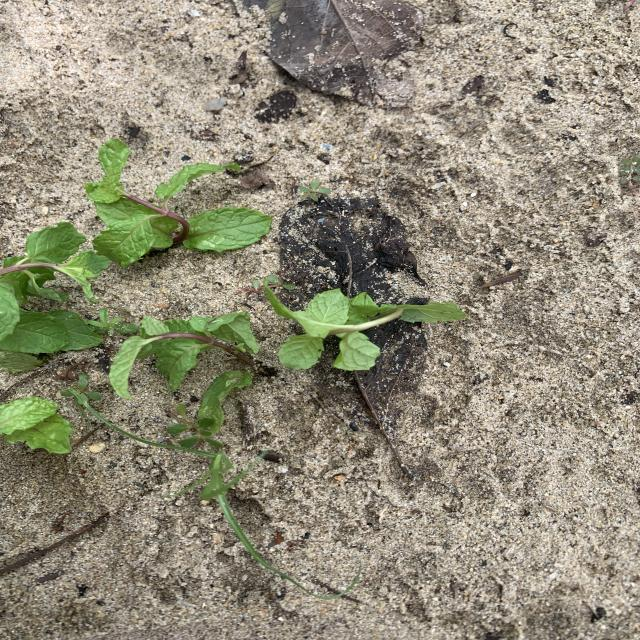crop: (85, 139, 271, 266), (109, 312, 276, 432), (264, 288, 463, 368), (0, 224, 106, 367), (1, 397, 71, 453)
weed: (89, 408, 265, 562), (165, 404, 220, 447), (86, 309, 138, 334), (60, 374, 100, 406), (299, 180, 330, 201)
